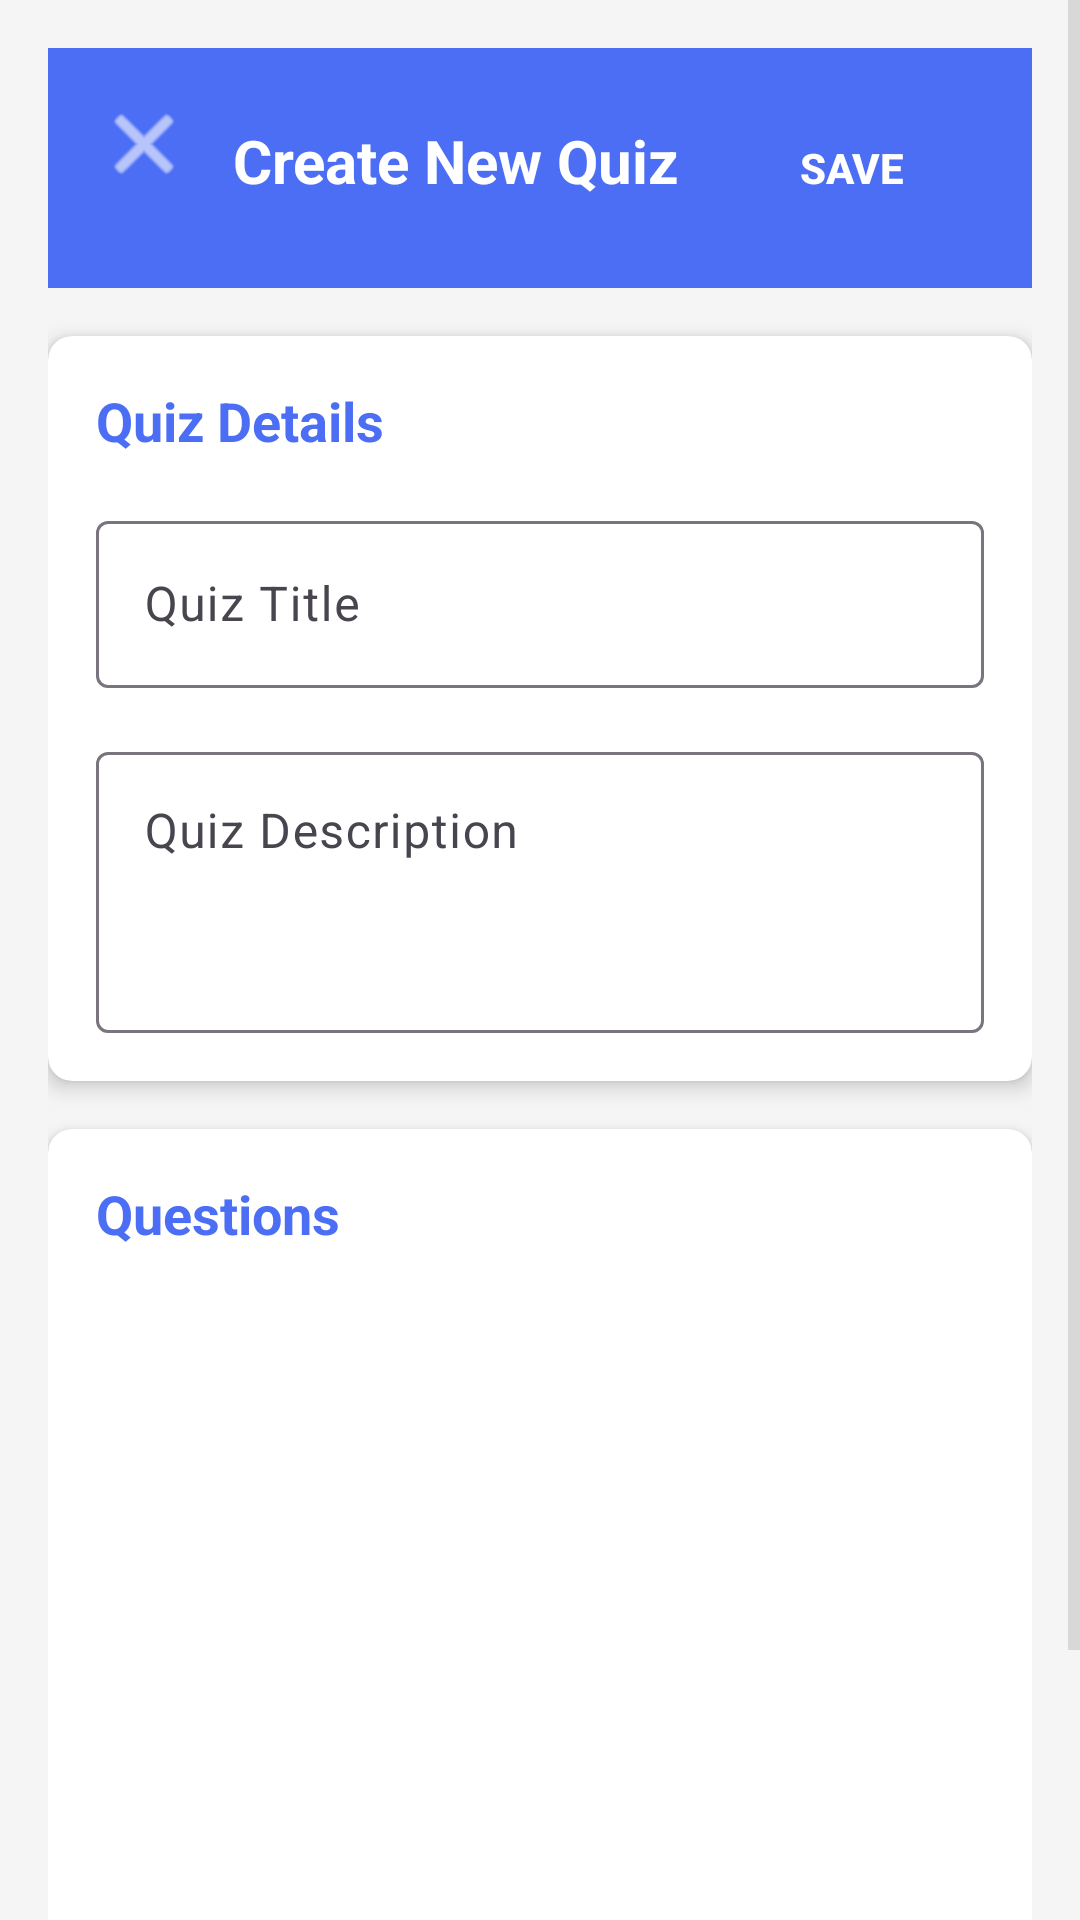

Named icons in this screenshot (1080×1920) and their centers, (x=x, y=y):
close clear cancel: (x=144, y=144)
